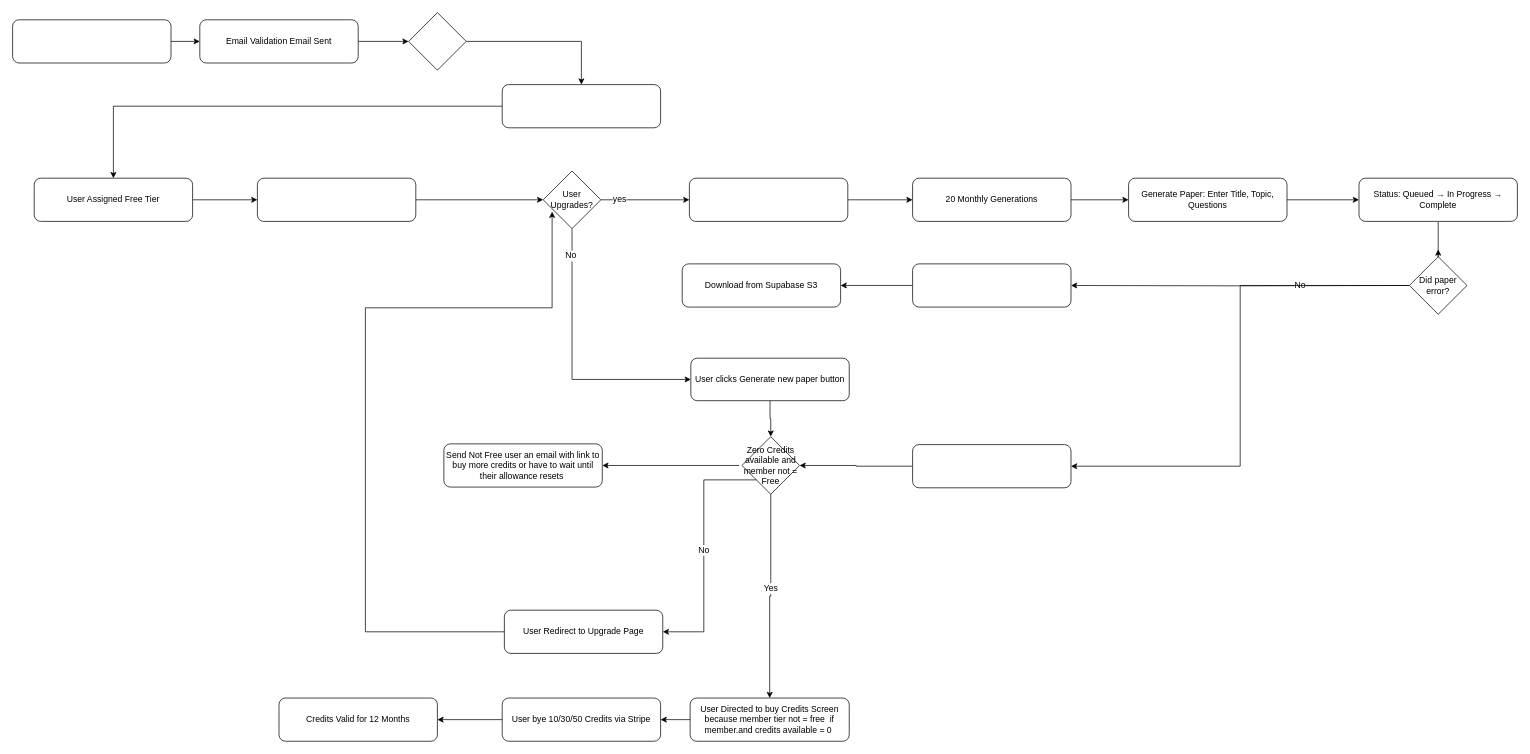
The diagram is 1530 pixels wide and 754 high, and some of its shapes have lost their labels. Each missing label, with the centre of its shape:
"Deduct one paper from users allowance" belongs at (x=991, y=466).
"Email Notification on Completion" belongs at (x=991, y=285).
"Email Verified" belongs at (x=437, y=41).
"Thank you for upgrading Email Sent" belongs at (x=768, y=199).
"User Can Access 3 Sample Papers to Download from my-papers screen" belongs at (x=336, y=199).
"User Signs Up" belongs at (x=91, y=41).
"Welcome Email Sent" belongs at (x=581, y=106).
